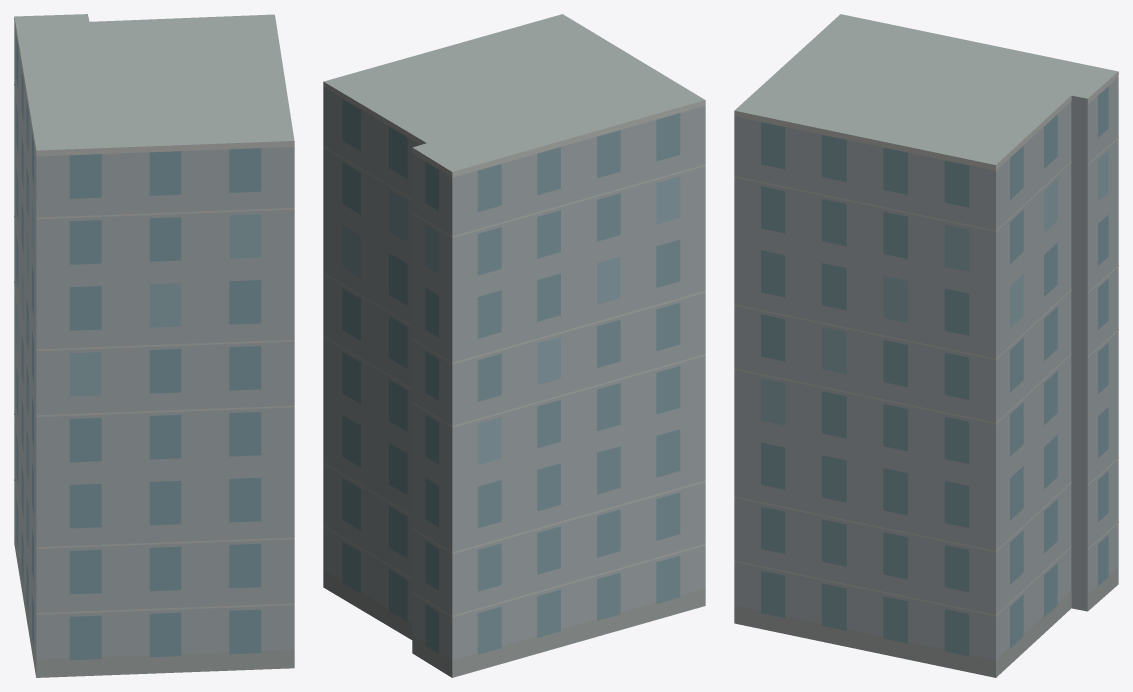
File: survey-upis-32999567.glb
3 renders of one model, left to right at view 1: azimuth 30°, elevation 25°; view 2: azimuth 150°, elevation 25°; view 3: azimuth 270°, elevation 25°, orthographic. The views are drawn at different scales.
Visible parts, largest first — view 1: survey-upis-32999567.tmp; view 2: survey-upis-32999567.tmp; view 3: survey-upis-32999567.tmp.
Part boxes in pixels (left/top/right/bottom): survey-upis-32999567.tmp: left=14, top=14, right=294, bottom=677; survey-upis-32999567.tmp: left=323, top=14, right=705, bottom=677; survey-upis-32999567.tmp: left=734, top=14, right=1118, bottom=677.
Size of the model in its own units: 13.74 by 21.7 by 14.76.
